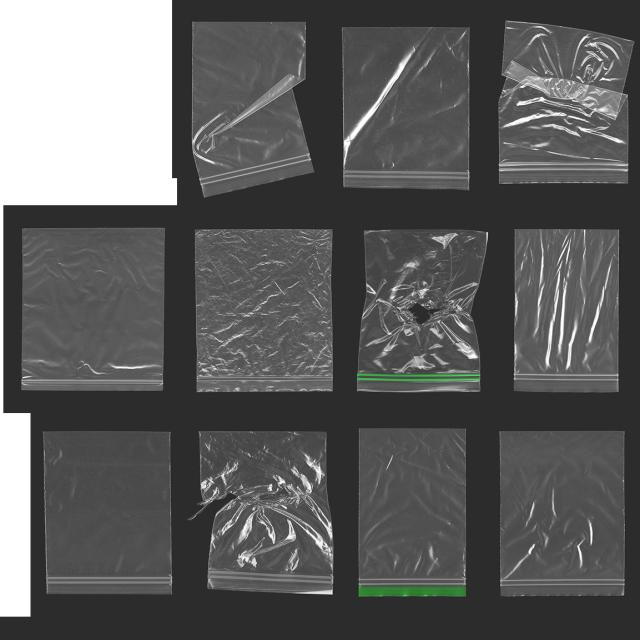Single-layer Plastic: (22, 228, 165, 389), (195, 229, 332, 391), (499, 22, 633, 184), (201, 431, 332, 592), (192, 22, 313, 196), (357, 230, 487, 391), (500, 431, 624, 596), (44, 431, 170, 593), (343, 28, 468, 189), (359, 429, 466, 596), (514, 229, 619, 392)
